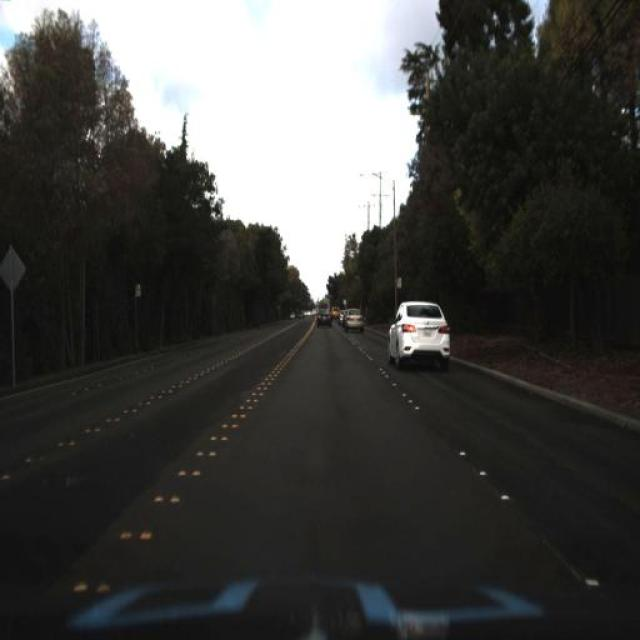car: (384, 296, 454, 386), (344, 303, 364, 337), (314, 302, 332, 326)
